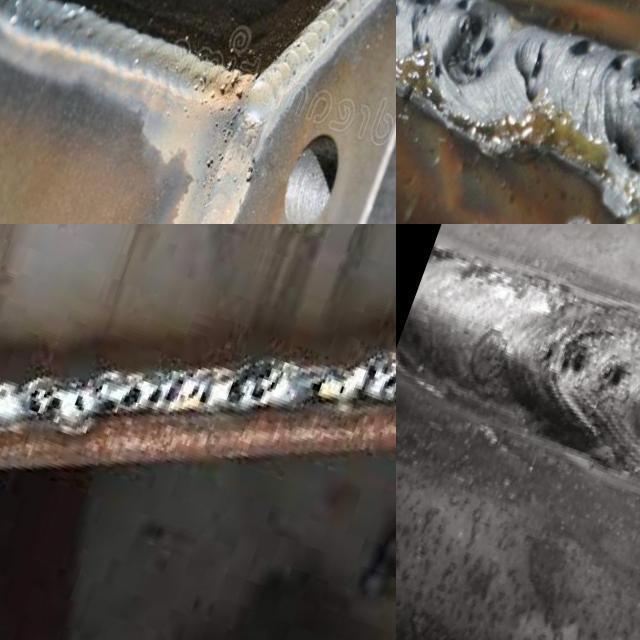defect: (427, 0, 498, 89), (178, 71, 247, 145), (533, 323, 597, 387), (223, 357, 283, 411), (591, 349, 634, 405), (145, 380, 213, 414), (22, 377, 68, 423), (523, 40, 554, 107), (96, 385, 147, 416), (609, 130, 640, 176), (361, 359, 396, 398), (563, 31, 594, 63), (240, 150, 258, 192), (605, 52, 628, 80), (307, 373, 332, 398), (203, 151, 227, 170), (71, 391, 89, 416), (625, 72, 640, 95), (336, 383, 346, 397)
